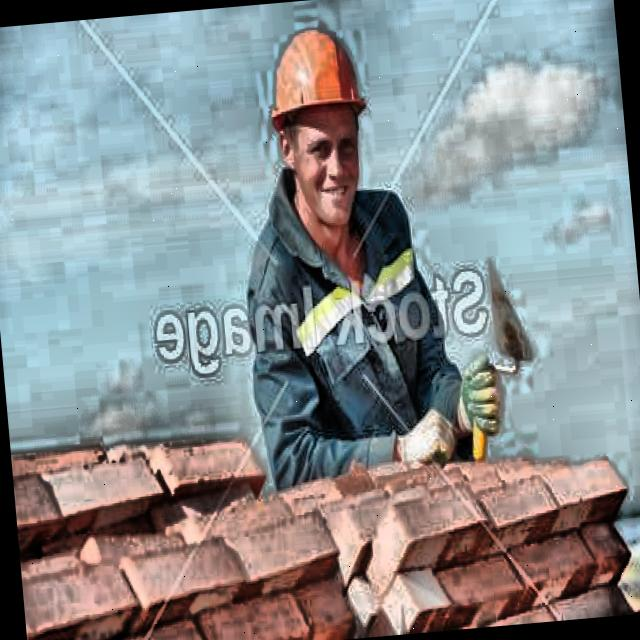helmet: (246, 0, 391, 256)
